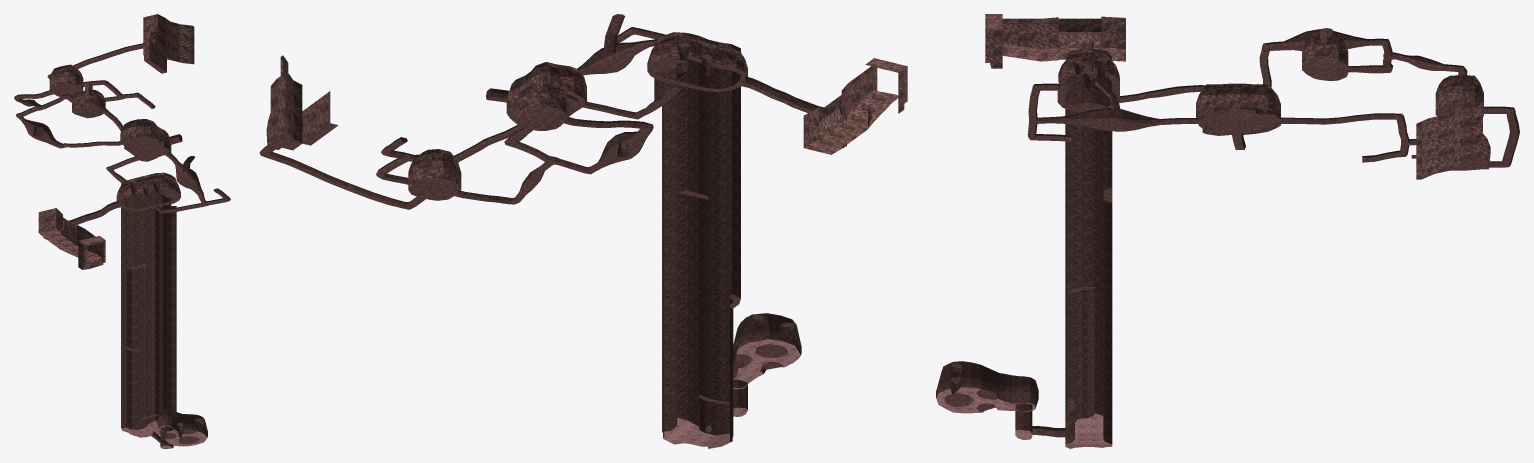
The model's file is ba_xen2.gltf.
The picture shows the model from 3 angles, left to right: view 1: azimuth 30°, elevation 25°; view 2: azimuth 150°, elevation 25°; view 3: azimuth 270°, elevation 25°; orthographic projection. The views are drawn at different scales.
Parts seen in each view (by area): view 1: maps/ba_xen2.bsp; view 2: maps/ba_xen2.bsp; view 3: maps/ba_xen2.bsp.
Boxes of the visible parts, x1,y1,x2,y2 form: maps/ba_xen2.bsp: [14, 14, 230, 448]; maps/ba_xen2.bsp: [259, 14, 907, 448]; maps/ba_xen2.bsp: [936, 14, 1519, 448].
Size of the model in its own units: 114 by 122 by 151.
3 materials, 3 textured.
